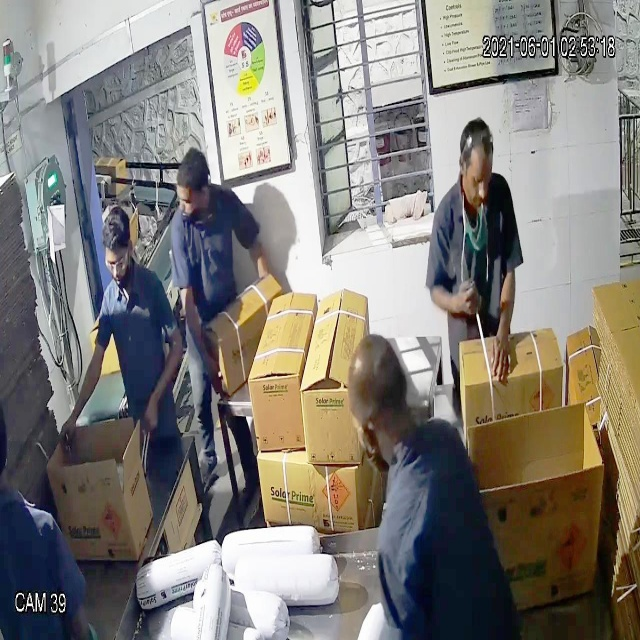Gafas: (101, 241, 135, 281)
Sin_gafas: (457, 159, 494, 197)
